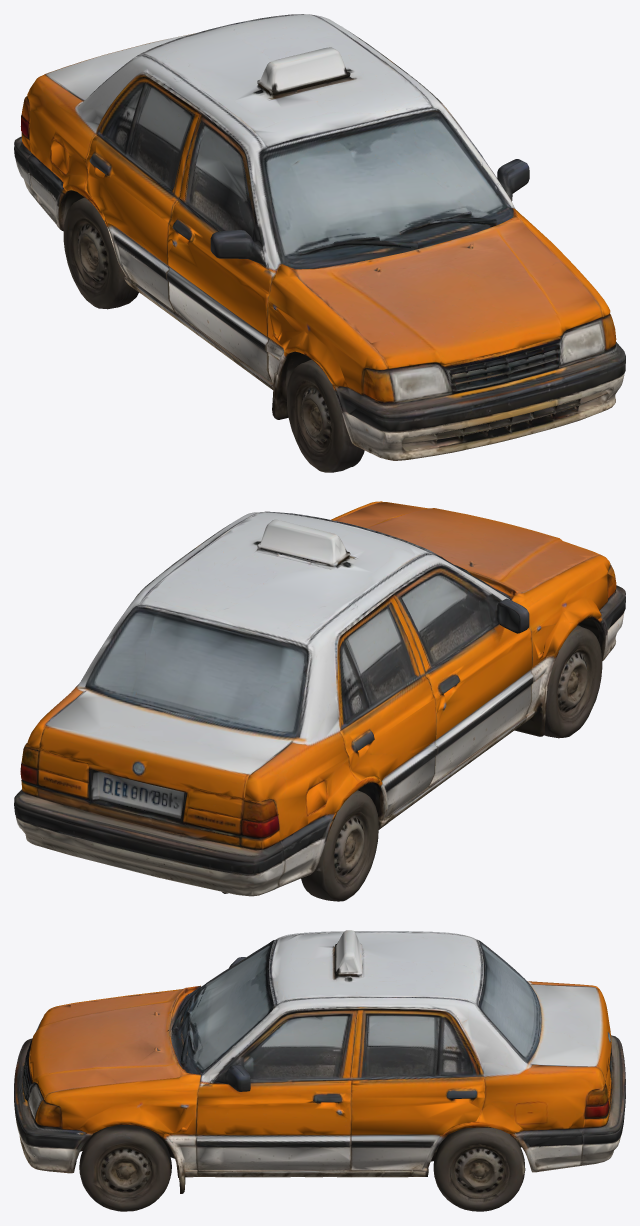
Rendered from car_taxi.glb.
3 views of the same model, one above another, from view 1: azimuth 30°, elevation 25°; view 2: azimuth 150°, elevation 25°; view 3: azimuth 270°, elevation 25° (orthographic). The views are drawn at different scales.
Parts seen in each view (by area): view 1: node_0; view 2: node_0; view 3: node_0.
Part boxes in pixels (bbox=[...]): node_0: bbox=[14, 14, 625, 472]; node_0: bbox=[14, 501, 625, 901]; node_0: bbox=[14, 930, 625, 1211].
Bounding box in the file's own units: 0.5399 × 0.4585 × 1.15.
Materials: 1 (1 with a texture image).
